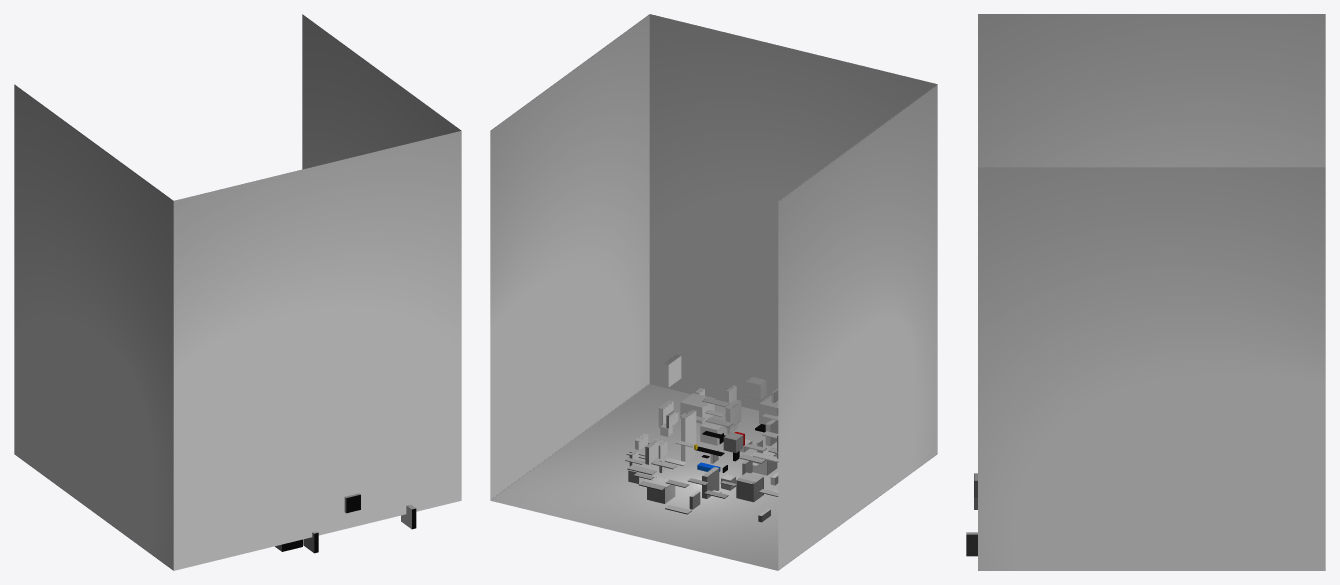
File: GORIN_GLTF_COLOR_2048_EXPORT.gltf
The picture shows the model from 3 angles, left to right: view 1: azimuth 30°, elevation 25°; view 2: azimuth 150°, elevation 25°; view 3: azimuth 270°, elevation 25°; orthographic projection. The views are drawn at different scales.
Parts seen in each view (by area): view 1: CUBE, RANDOM_BOX; view 2: CUBE, RANDOM_BOX, RANDOM_PLATE, 3D; view 3: CUBE.
Boxes of the visible parts, <box> form: CUBE: <box>14,14,461,570</box>; RANDOM_BOX: <box>275,493,416,553</box>; CUBE: <box>490,14,937,570</box>; RANDOM_BOX: <box>628,354,778,522</box>; RANDOM_PLATE: <box>625,397,778,514</box>; 3D: <box>694,424,765,472</box>; CUBE: <box>978,14,1325,570</box>.
Size of the model in its own units: 861 by 1103 by 854.
4 materials, 4 textured.
